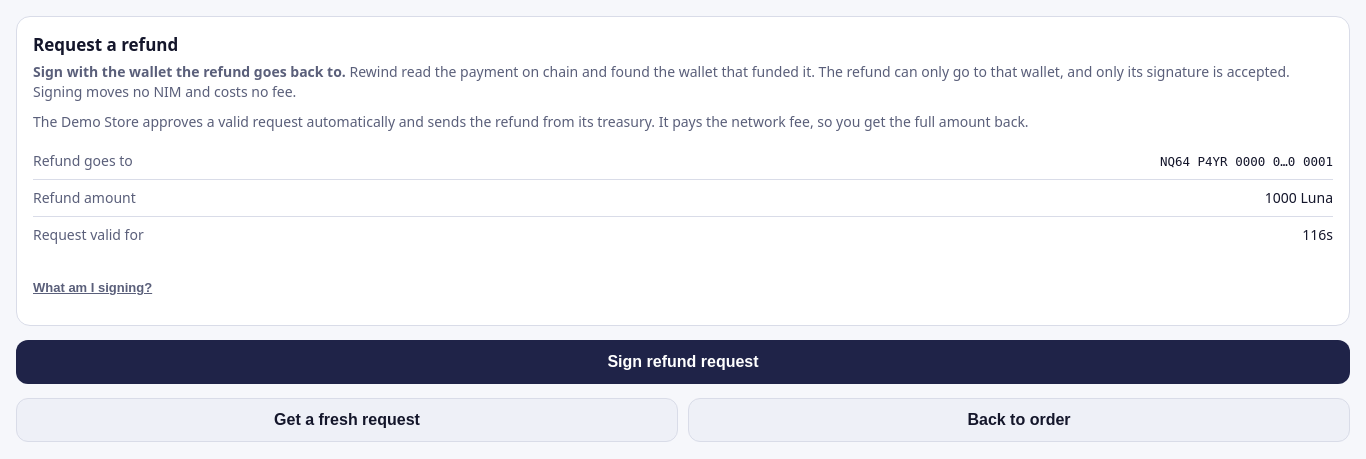
Test: Refund request › treats a 503 as submitted-but-unconfirmed, not as a rejection
This screenshot has width=1366, height=459.
Click the button "Sign refund request".
click(683, 362)  # box [16, 340, 1350, 384]
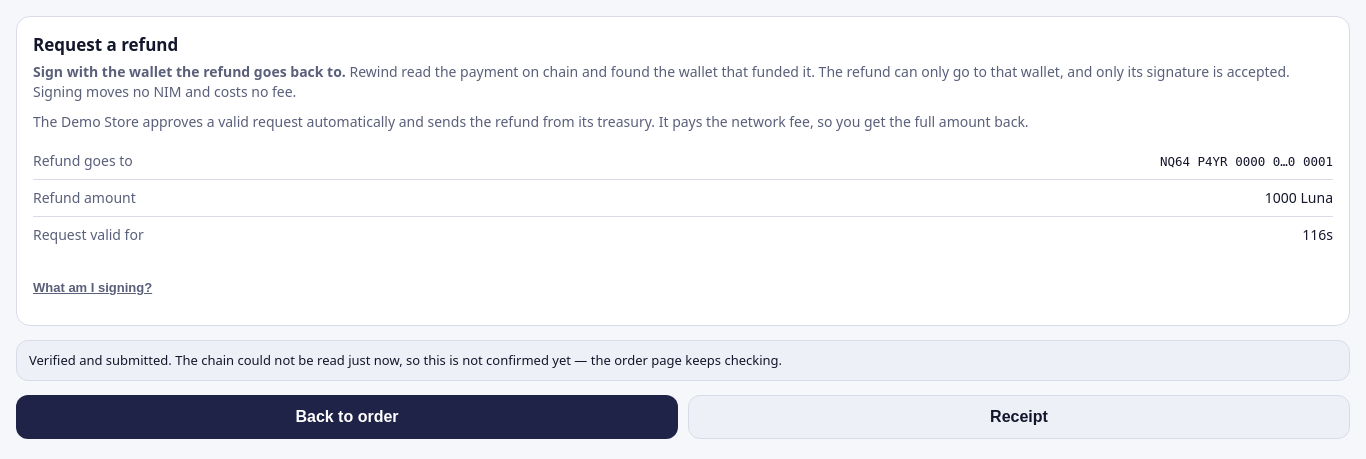
Check: the button "Back to order" is shown, box [16, 395, 678, 439]
Check: the text "Verified and submitted" is shown, box [29, 351, 782, 369]
